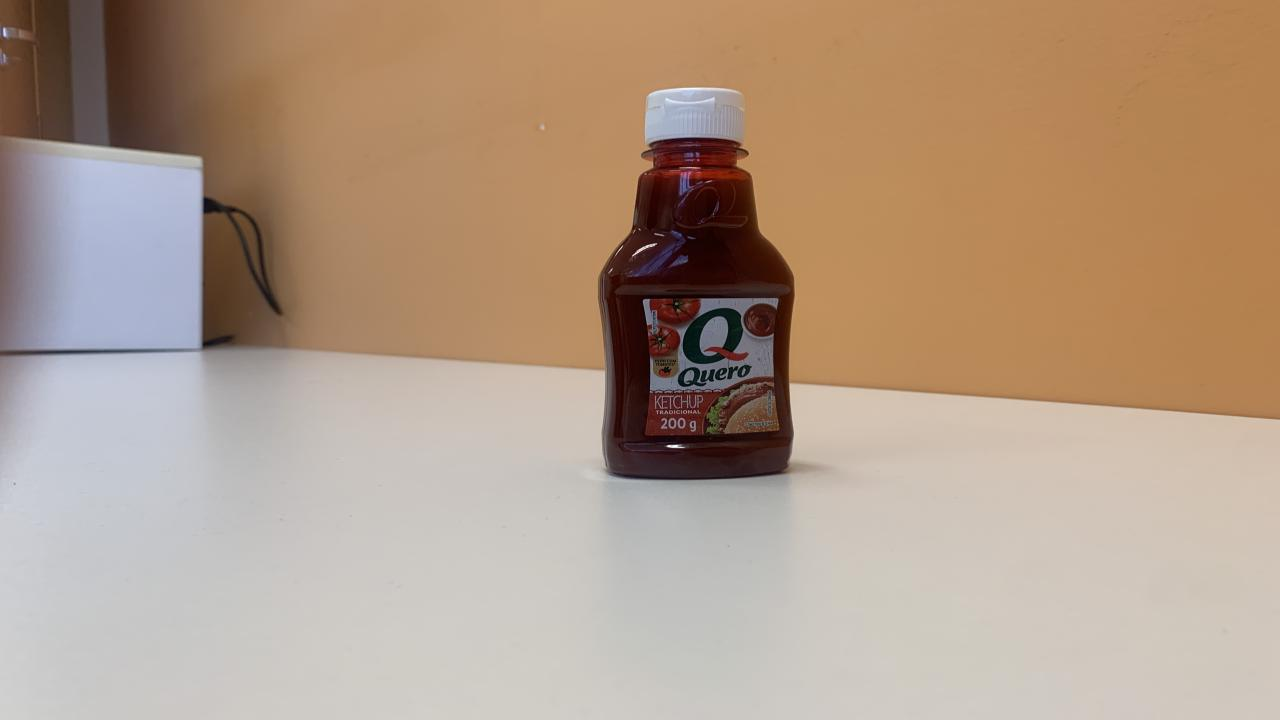Ketchup-Pantry_Items: (596, 88, 796, 483)
